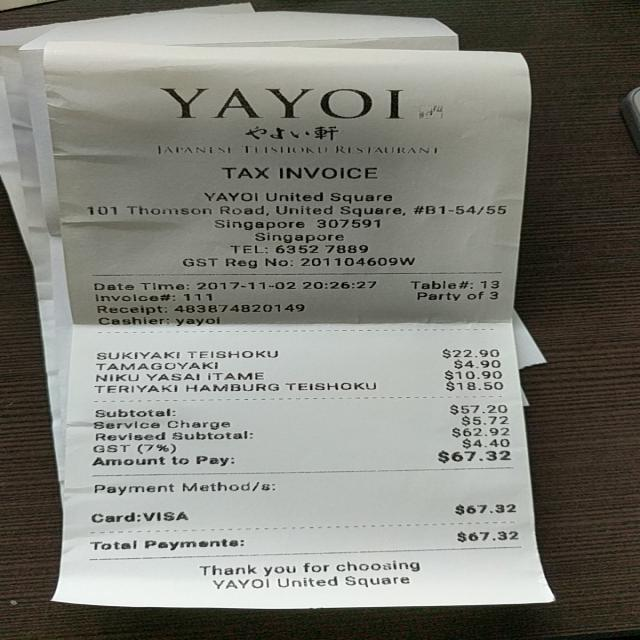bill_region: (74, 340, 521, 477)
